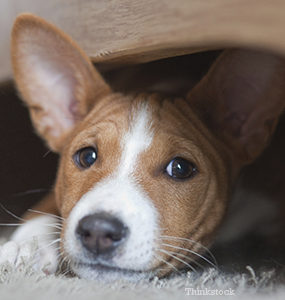dog: (13, 15, 278, 284)
